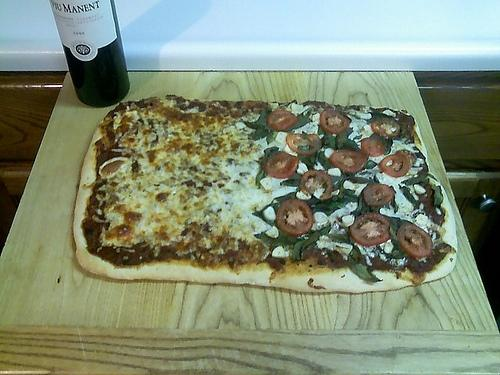tomato: (348, 212, 390, 247), (276, 198, 314, 236), (397, 222, 432, 258), (299, 169, 333, 201), (263, 151, 300, 179), (329, 149, 366, 174), (286, 134, 322, 156), (265, 109, 298, 131), (320, 110, 350, 134), (378, 154, 410, 176), (364, 184, 394, 206), (371, 117, 401, 139), (361, 138, 384, 158)
